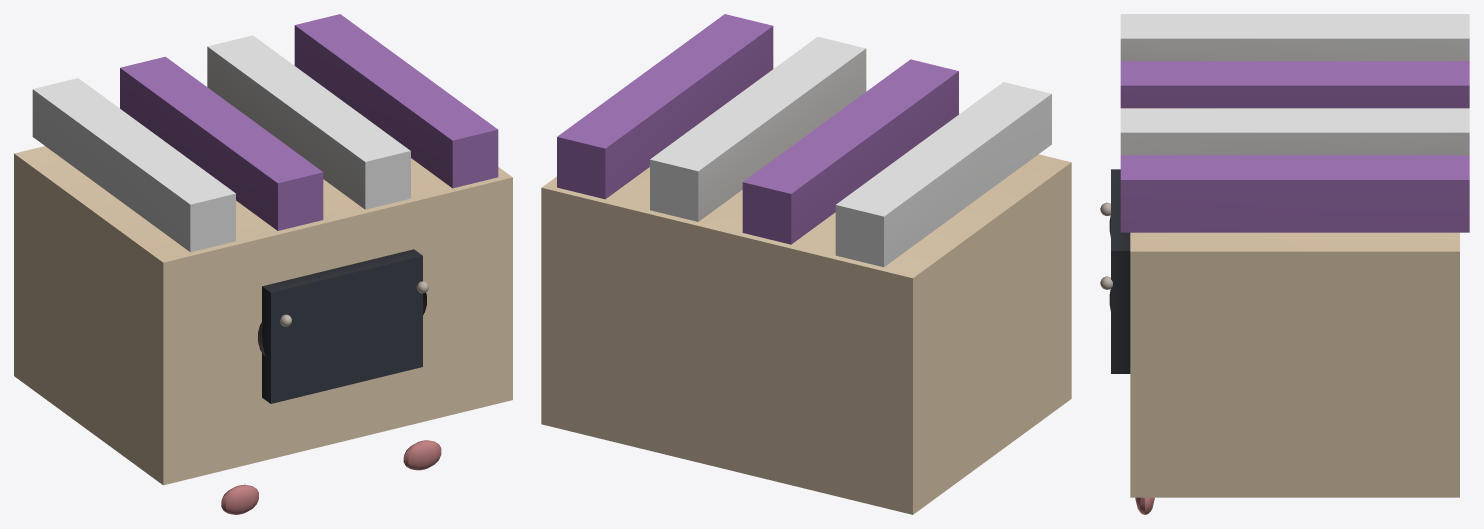
The picture shows the model from 3 angles, left to right: view 1: azimuth 30°, elevation 25°; view 2: azimuth 150°, elevation 25°; view 3: azimuth 270°, elevation 25°; orthographic projection. The views are drawn at different scales.
Visible parts, largest first — view 1: pet_p2b61e8c9; view 2: pet_p2b61e8c9; view 3: pet_p2b61e8c9.
Boxes of the visible parts, box(x1,y1,x2,y2) form: pet_p2b61e8c9: box(14, 14, 512, 514); pet_p2b61e8c9: box(541, 14, 1071, 514); pet_p2b61e8c9: box(1100, 14, 1469, 514).
Bounding box in the file's own units: 0.46 × 0.4176 × 0.3809.
